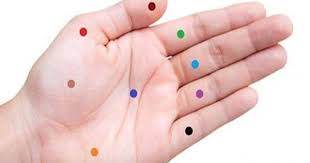palm: (42, 42, 167, 162)
